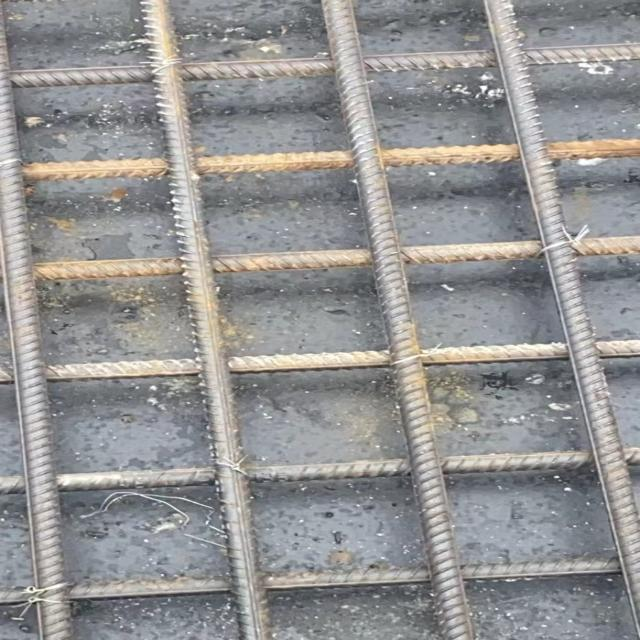ribbed bar: (319, 0, 478, 639), (480, 0, 639, 639), (139, 0, 272, 639), (0, 0, 77, 639), (10, 41, 638, 90), (0, 447, 638, 495), (0, 556, 619, 605), (0, 337, 638, 383), (34, 236, 639, 284), (23, 137, 639, 182)
